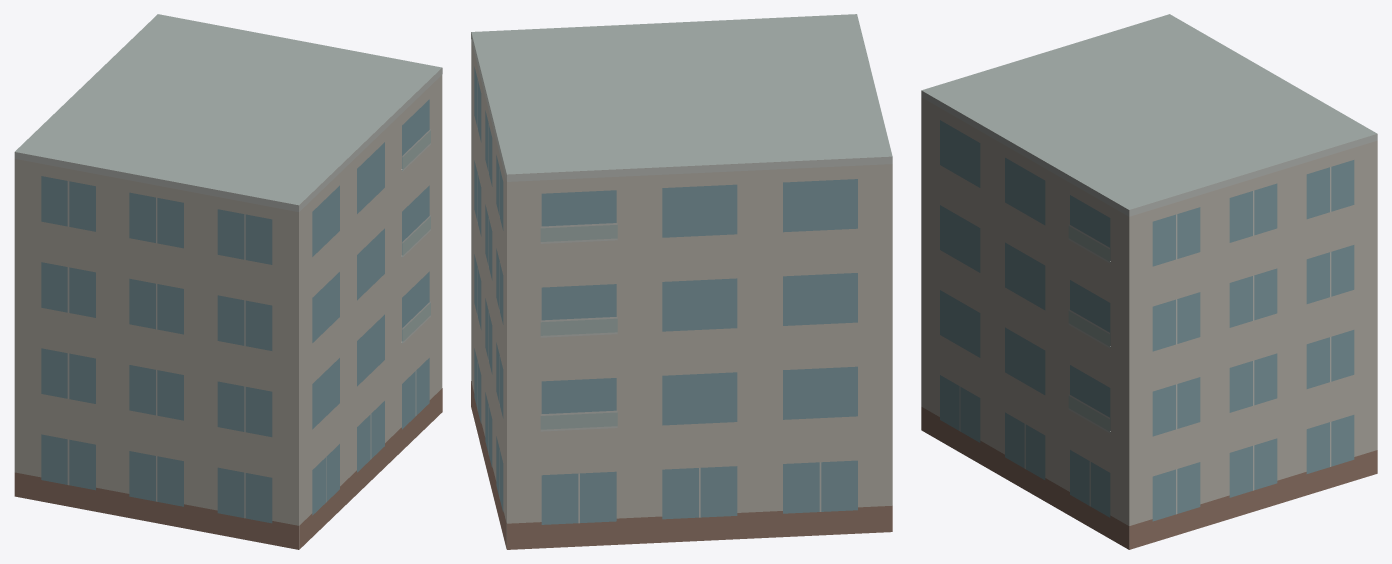
Rendered from survey-upis-32778287.glb.
3 views of the same model, side by side, from view 1: azimuth 30°, elevation 25°; view 2: azimuth 150°, elevation 25°; view 3: azimuth 270°, elevation 25° (orthographic). The views are drawn at different scales.
Parts seen in each view (by area): view 1: survey-upis-32778287.tmp; view 2: survey-upis-32778287.tmp; view 3: survey-upis-32778287.tmp.
Part boxes in pixels (x1=…): survey-upis-32778287.tmp: x1=14, y1=14, x2=442, y2=549; survey-upis-32778287.tmp: x1=471, y1=14, x2=892, y2=549; survey-upis-32778287.tmp: x1=921, y1=14, x2=1377, y2=549.
Size of the model in its own units: 15.1 by 12.2 by 14.86.
